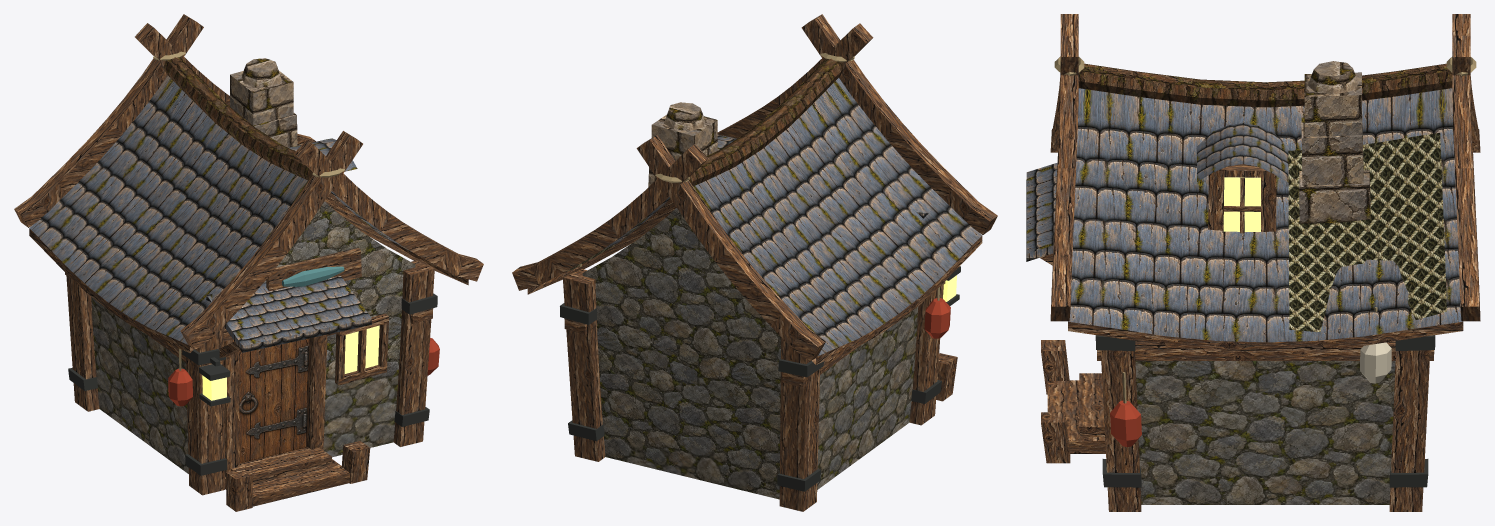
The model's file is house-lake-02.glb.
3 renders of one model, left to right at view 1: azimuth 30°, elevation 25°; view 2: azimuth 150°, elevation 25°; view 3: azimuth 270°, elevation 25°, orthographic. The views are drawn at different scales.
Parts seen in each view (by area): view 1: roof_-1, gable_-1, side_-1, door, porch_roof, barge_-1_-1, barge_1_-1, post_1_-1, barge_-1_1, ridge, post_-1_-1, chimney (+19 smaller); view 2: roof_-1, gable_1, side_-1, barge_1_-1, barge_-1_-1, post_-1_1, barge_1_1, post_1_1, ridge, post_-1_-1, barge_-1_1, chimney (+7 smaller); view 3: roof_1, side_1, net, chimney, ridge, barge_1_1, barge_-1_1, post_1_1, roof_edge_1, post_1_-1, dormer_roof, plate_1 (+14 smaller).
Boxes of the visible parts, left/top/right/bottom form: roof_-1: left=29, top=76, right=308, bottom=344; gable_-1: left=263, top=201, right=415, bottom=457; side_-1: left=91, top=297, right=188, bottom=473; door: left=239, top=338, right=309, bottom=463; porch_roof: left=206, top=276, right=371, bottom=352; barge_-1_-1: left=180, top=131, right=362, bottom=349; barge_1_-1: left=14, top=14, right=203, bottom=227; post_1_-1: left=393, top=259, right=434, bottom=446; barge_-1_1: left=294, top=140, right=483, bottom=281; ridge: left=163, top=57, right=312, bottom=180; post_-1_-1: left=186, top=327, right=225, bottom=495; chimney: left=230, top=71, right=297, bottom=147; roof_-1: left=693, top=78, right=981, bottom=355; gable_1: left=582, top=208, right=780, bottom=499; side_-1: left=817, top=306, right=918, bottom=489; barge_1_-1: left=636, top=135, right=825, bottom=361; barge_-1_-1: left=801, top=14, right=997, bottom=234; post_-1_1: left=779, top=337, right=819, bottom=511; barge_1_1: left=512, top=144, right=708, bottom=290; post_1_1: left=562, top=267, right=605, bottom=461; ridge: left=689, top=58, right=843, bottom=186; post_-1_-1: left=909, top=283, right=943, bottom=425; barge_-1_1: left=717, top=23, right=873, bottom=138; chimney: left=641, top=114, right=717, bottom=236; roof_1: left=1068, top=88, right=1462, bottom=342; side_1: left=1135, top=361, right=1395, bottom=504; net: left=1288, top=133, right=1446, bottom=331; chimney: left=1299, top=72, right=1370, bottom=223; ridge: left=1078, top=63, right=1452, bottom=107; barge_1_1: left=1452, top=14, right=1480, bottom=321; barge_-1_1: left=1050, top=14, right=1078, bottom=321; post_1_1: left=1389, top=350, right=1430, bottom=511; roof_edge_1: left=1068, top=321, right=1463, bottom=351; post_1_-1: left=1100, top=350, right=1141, bottom=511; dormer_roof: left=1197, top=123, right=1288, bottom=182; plate_1: left=1097, top=341, right=1434, bottom=360.
Size of the model in its own units: 2.84 by 3.14 by 3.07.
14 materials, 8 textured.
